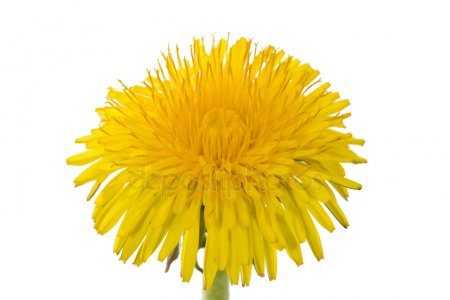dandelion: (99, 70, 335, 244)
